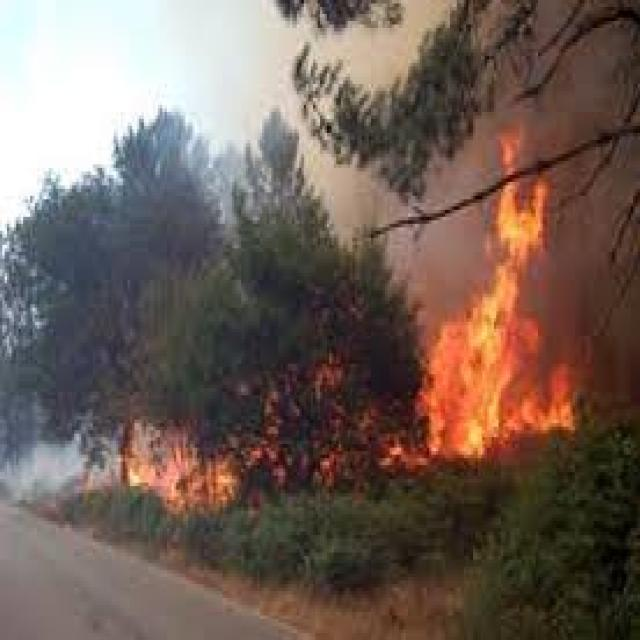Fire: (421, 122, 576, 468)
Smoke: (525, 159, 640, 392), (199, 98, 259, 186), (403, 232, 477, 302), (9, 446, 78, 494)
